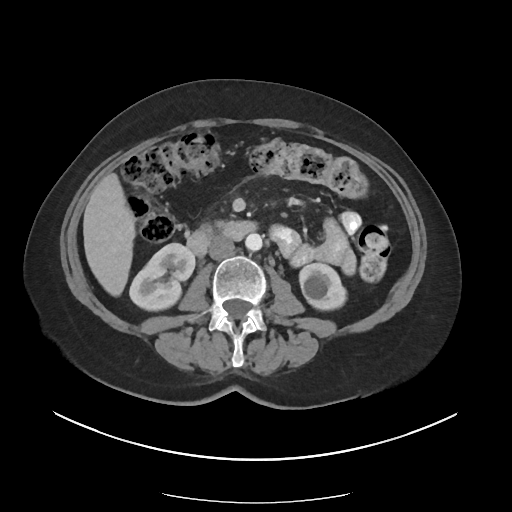Lesion: (304, 272, 332, 303)
